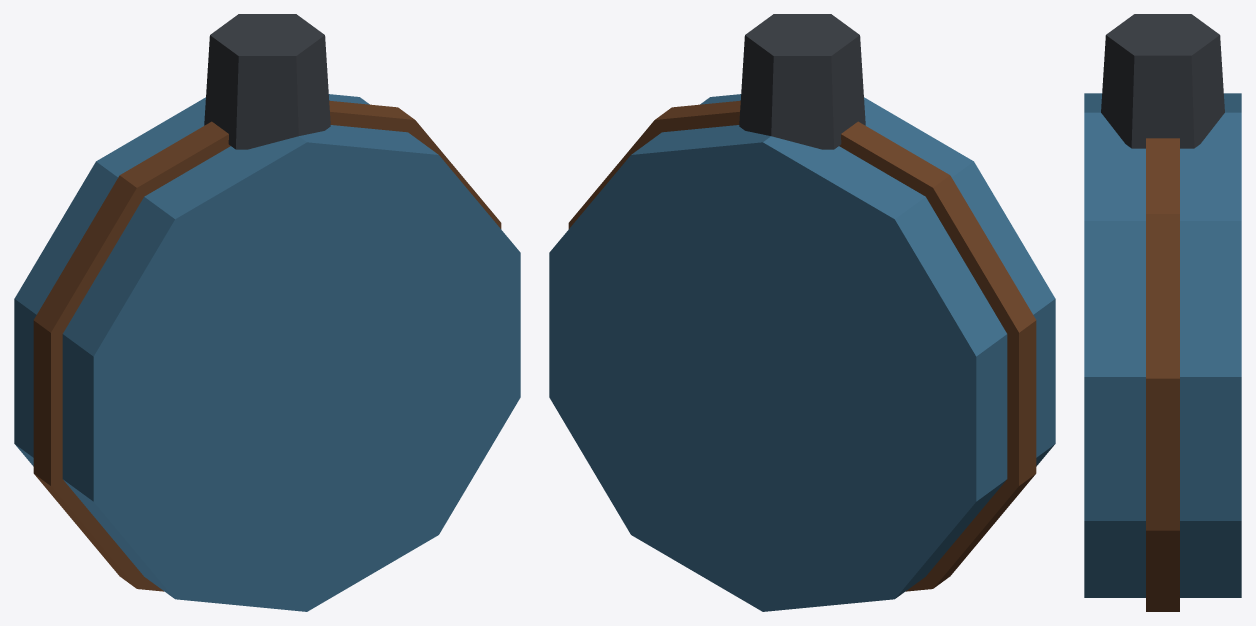
The model's file is Canteen.fbx.
3 views of the same model, side by side, from view 1: azimuth 30°, elevation 25°; view 2: azimuth 150°, elevation 25°; view 3: azimuth 270°, elevation 25° (orthographic).
Visible parts, largest first — view 1: Canteen; view 2: Canteen; view 3: Canteen.
Part boxes in pixels (bbox=[...]): Canteen: bbox=[14, 14, 520, 611]; Canteen: bbox=[549, 14, 1055, 611]; Canteen: bbox=[1084, 14, 1241, 611].
Size of the model in its own units: 1.81 by 2.15 by 0.55.
1 material, 1 textured.
